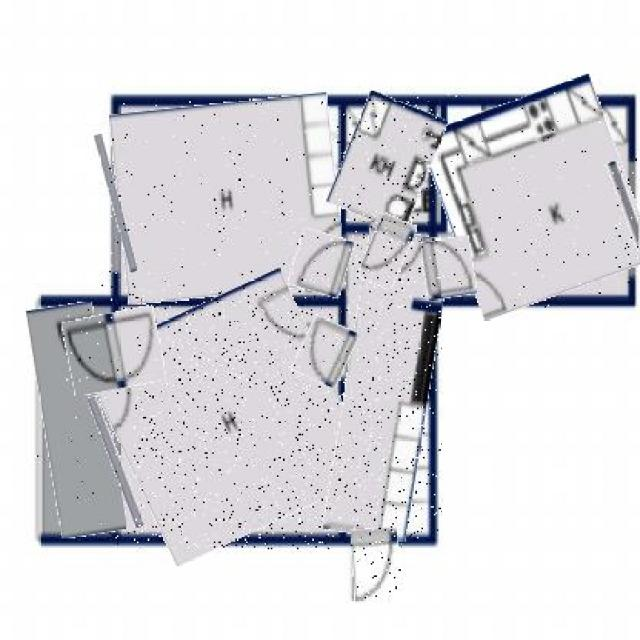door: (65, 309, 163, 391), (292, 232, 351, 297), (297, 318, 354, 384), (352, 529, 402, 603), (363, 215, 412, 288), (423, 237, 475, 298)
window: (100, 395, 134, 531), (103, 132, 129, 274), (615, 158, 640, 276)
zone: (101, 285, 357, 549), (431, 86, 640, 308), (115, 98, 343, 300), (336, 229, 442, 540), (34, 303, 118, 537), (336, 97, 438, 226)
